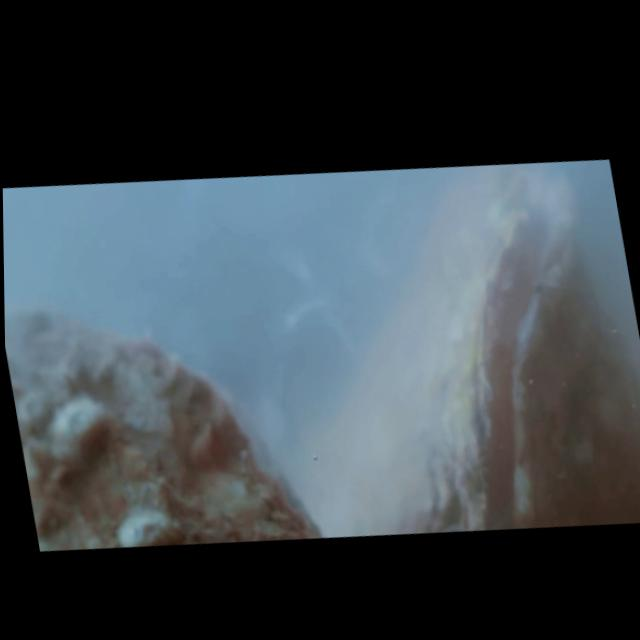Oyster-Indeterminate: (5, 305, 331, 546)
Oyster-Open: (409, 169, 640, 533)
